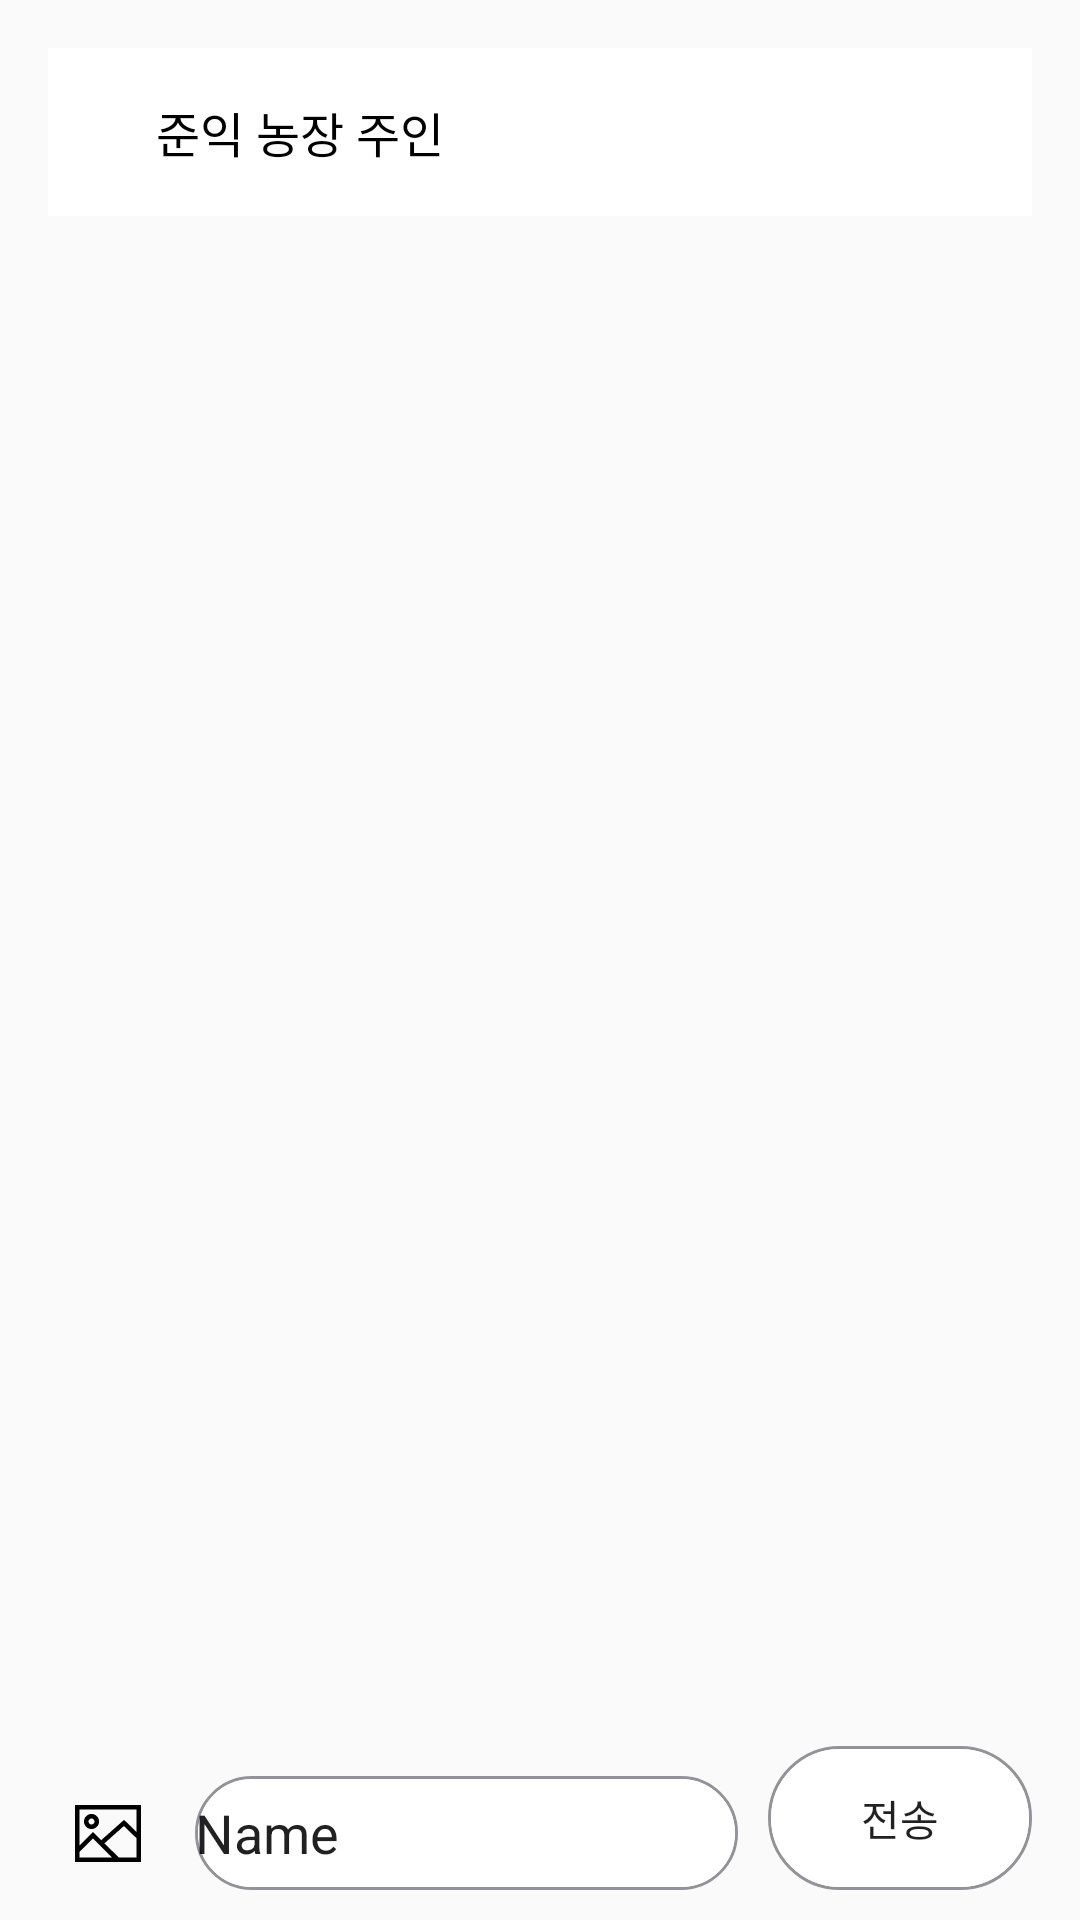

Named icons in this screenshot (1080*1920) and their centers, (x=x, y=y):
imageicon: (x=108, y=1833)
